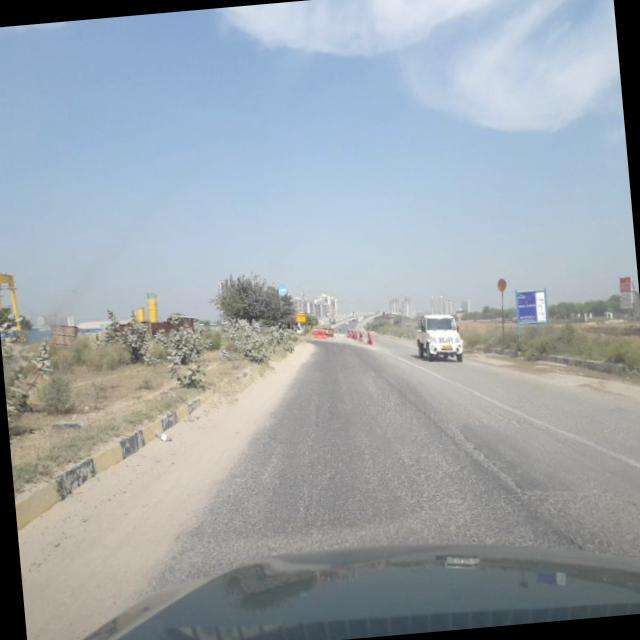crack: (173, 377, 580, 574)
pothole: (443, 415, 528, 503)
